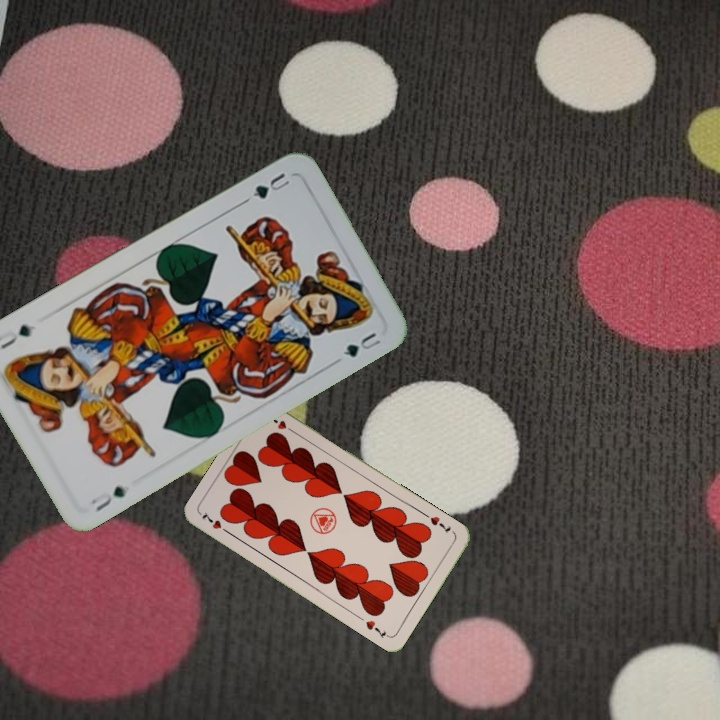GU: (248, 168, 293, 202), (86, 482, 128, 515)
H7: (198, 508, 233, 537), (426, 512, 453, 535)
